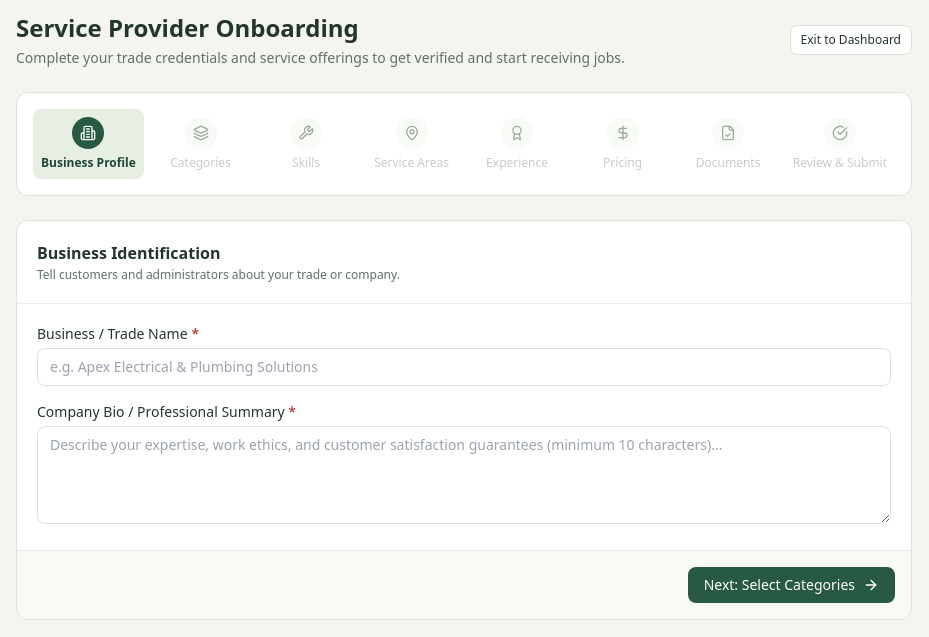
Milestone 4: Provider Onboarding, Profile & Admin Verification Frontend › ProviderOnboardingWizard: Category Selection & Resilience › should render error state with Retry action on API failure and recover on retry
Type "Apex Co" into the field with placeholder "e.g. Apex Electrical & Plumbing Solutions".
click(464, 367); type("Apex Co")  # box [37,348,891,386]
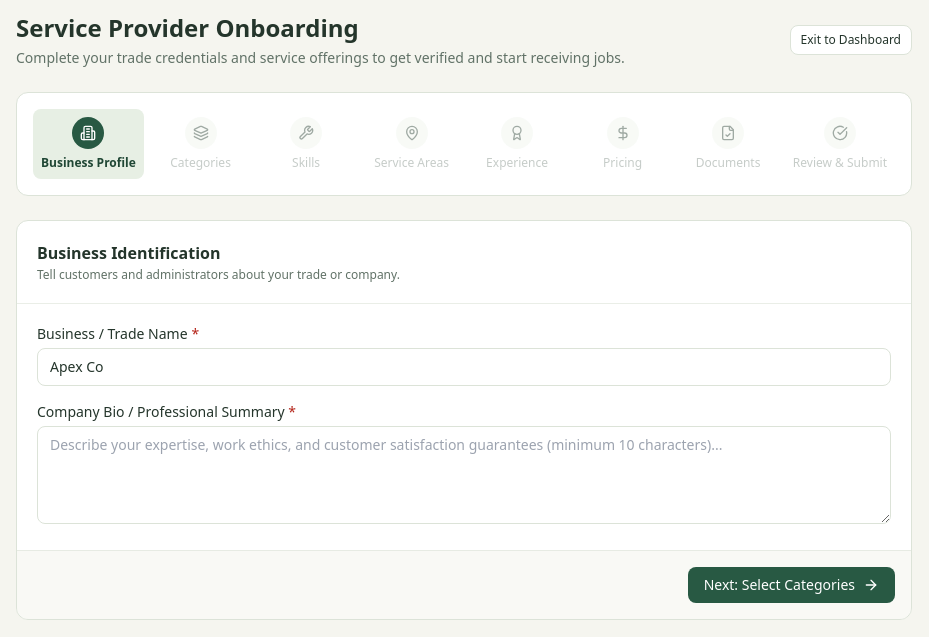
Replace the text in the text box with placeholder "Describe your expertise" with "Valid description with more than ten characters." at point(464, 475), box [37,426,891,524]
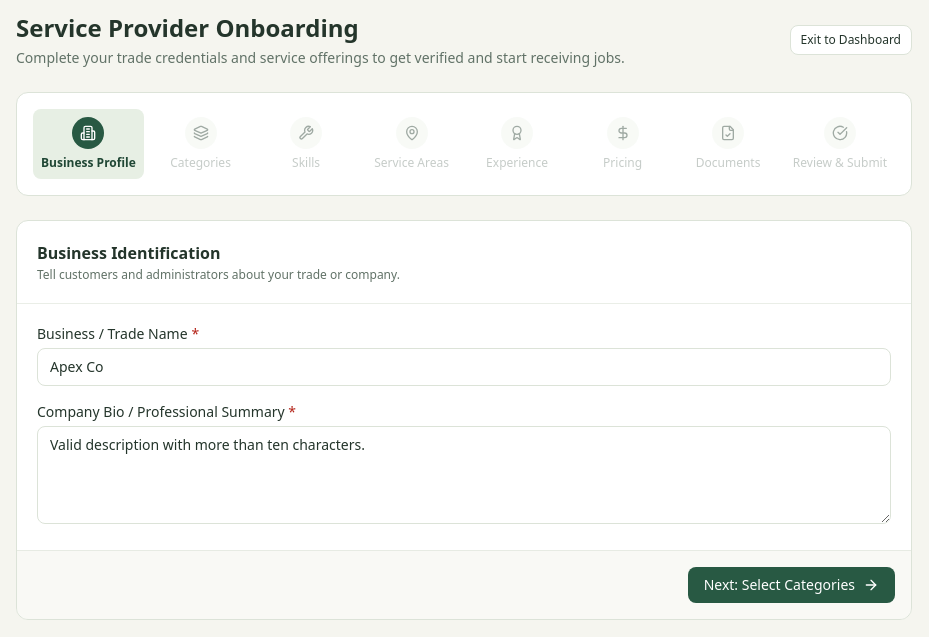
Click the button "Next: Select Categories".
click(791, 585)  # box [688,567,895,603]
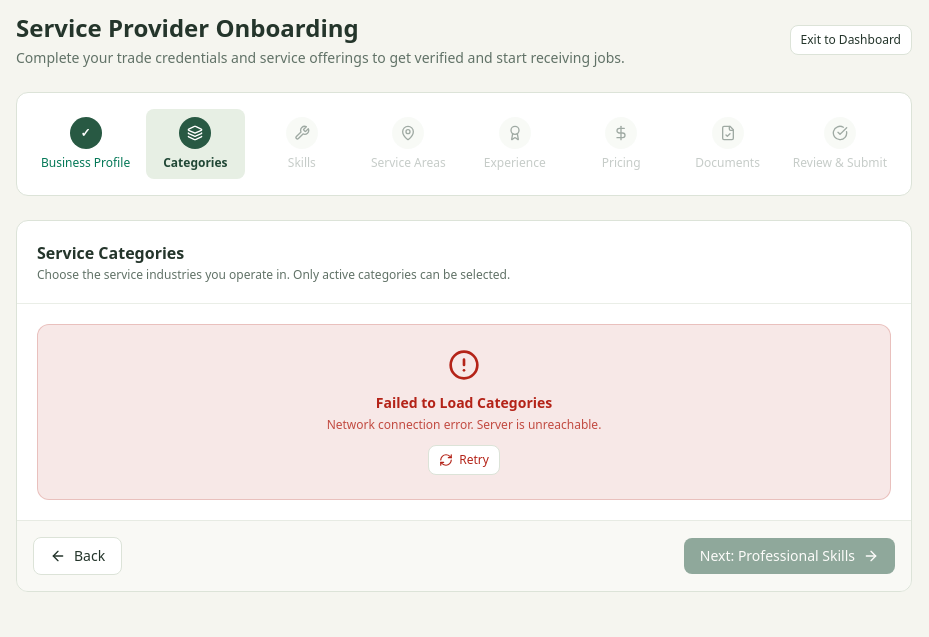
Expected: the heading "Failed to Load Categories" is shown, [376,393,552,412]
Expected: the button "Retry" is shown
Expected: the button "Next: Professional Skills" is disabled, [684,538,895,574]
Click Retry
Click the button "Retry".
click(464, 460)  # box [428,445,500,475]
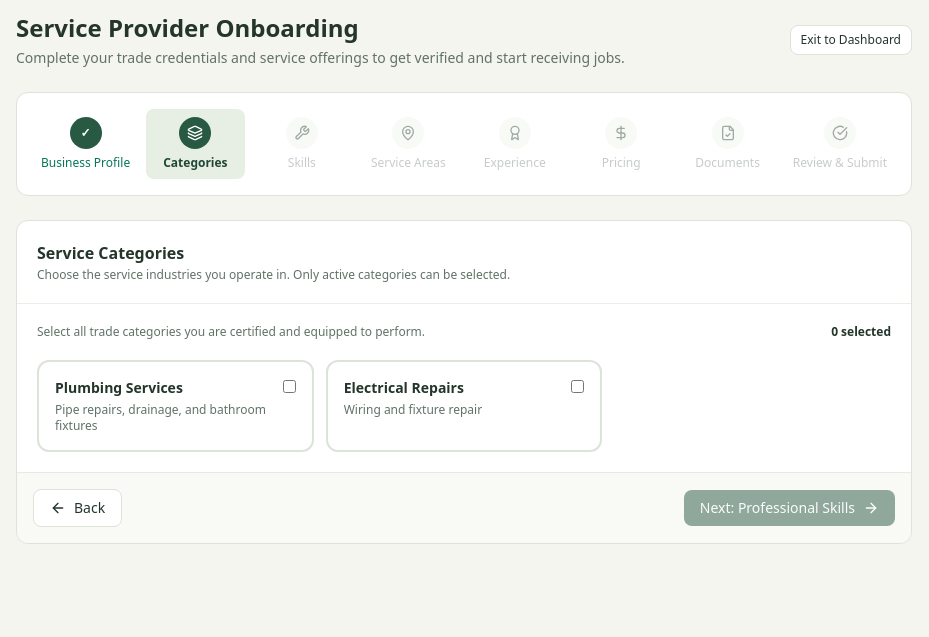
Expected: the text "Plumbing Services" is shown, [55,378,183,398]
Expected: the text "Electrical Repairs" is shown, [344,378,464,398]
